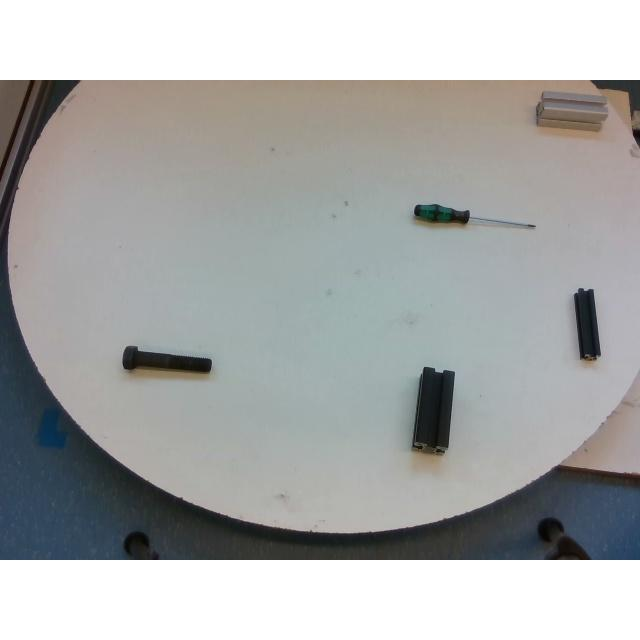F20_20_B: (574, 288, 600, 358)
M20_100: (122, 346, 210, 370)
S40_40_B: (412, 367, 454, 453)
S40_40_G: (536, 90, 608, 130)
Screwdriver: (414, 203, 538, 231)
